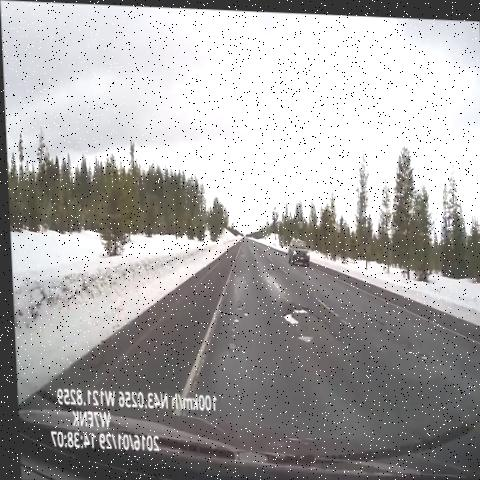pothole: (268, 288, 321, 351), (339, 287, 397, 337), (217, 288, 253, 365), (414, 341, 434, 370)
